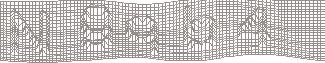4: (237, 6, 272, 50)
9: (80, 3, 116, 53)
N: (9, 7, 51, 58)
b: (182, 4, 217, 53)
q: (123, 14, 161, 58)
